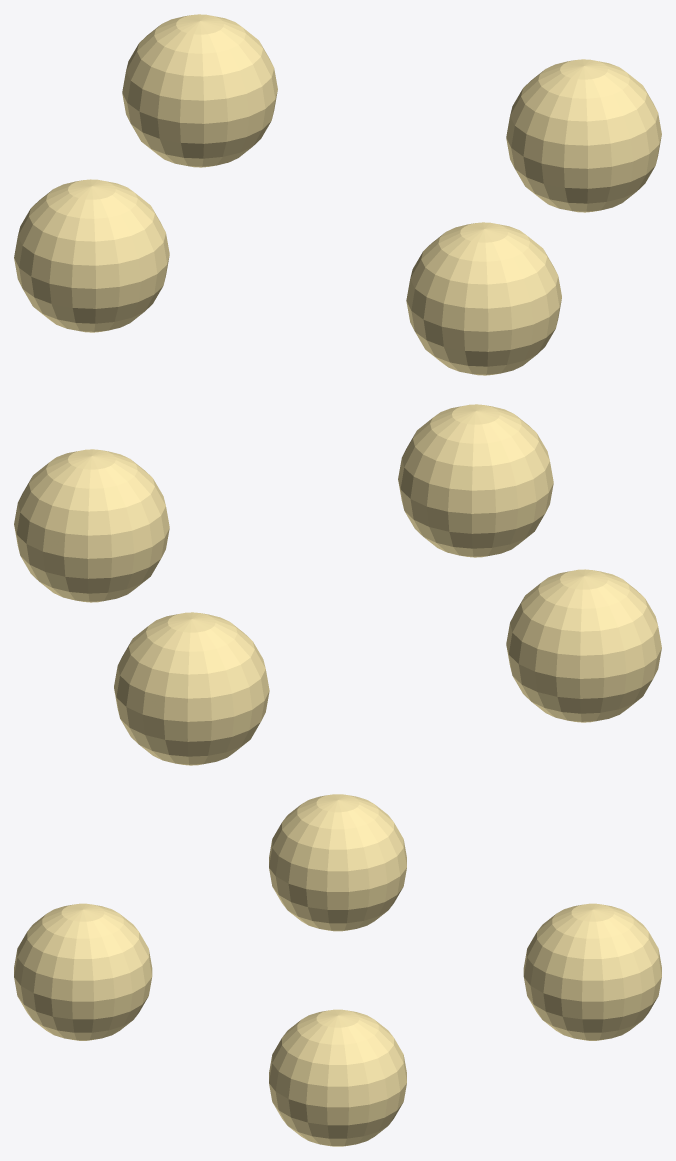
The model's file is dc_metro_platform_pole_light_2_light_layer.obj.
3 renders of one model, top to bottom at view 1: azimuth 30°, elevation 25°; view 2: azimuth 150°, elevation 25°; view 3: azimuth 270°, elevation 25°, orthographic. The views are drawn at different scales.
Visible parts, largest first — view 1: light; view 2: light; view 3: light.
Part boxes in pixels (x1=…): light: x1=14, y1=14, x2=661, y2=375; light: x1=14, y1=404, x2=661, y2=765; light: x1=14, y1=794, x2=661, y2=1146.
Bounding box in the file's own units: 2.34 × 0.5 × 2.34.
1 material, 1 textured.
